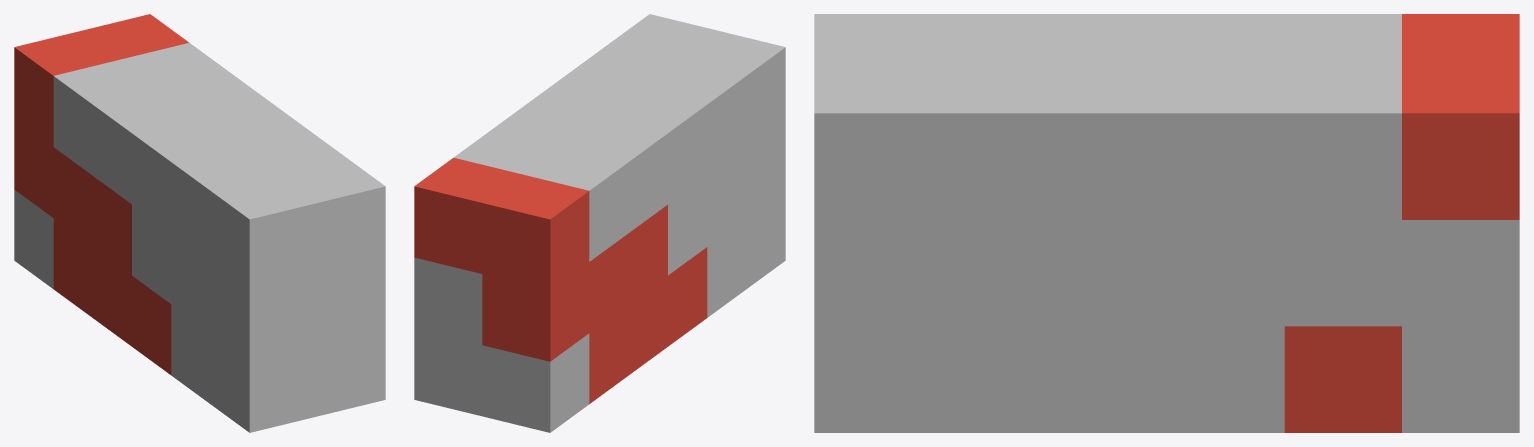
Rendered from tiling.obj.
3 views of the same model, side by side, from view 1: azimuth 30°, elevation 25°; view 2: azimuth 150°, elevation 25°; view 3: azimuth 270°, elevation 25° (orthographic). The views are drawn at different scales.
Parts seen in each view (by area): view 1: copy_2, copy_3, copy_1, copy_4; view 2: copy_1, copy_4, copy_2, copy_3; view 3: copy_4, copy_3, copy_2, copy_1.
Boxes of the visible parts, bbox=[...] form: copy_2: bbox=[92, 88, 385, 432]; copy_3: bbox=[171, 157, 385, 403]; copy_1: bbox=[14, 14, 188, 374]; copy_4: bbox=[14, 42, 306, 288]; copy_1: bbox=[414, 157, 707, 403]; copy_4: bbox=[414, 71, 638, 432]; copy_2: bbox=[561, 42, 785, 288]; copy_3: bbox=[611, 14, 785, 317]; copy_4: bbox=[1049, 14, 1519, 432]; copy_3: bbox=[814, 14, 1284, 432]; copy_2: bbox=[814, 14, 1284, 432]; copy_1: bbox=[1284, 14, 1519, 432].
Bounding box in the file's own units: 2 × 3 × 6.
